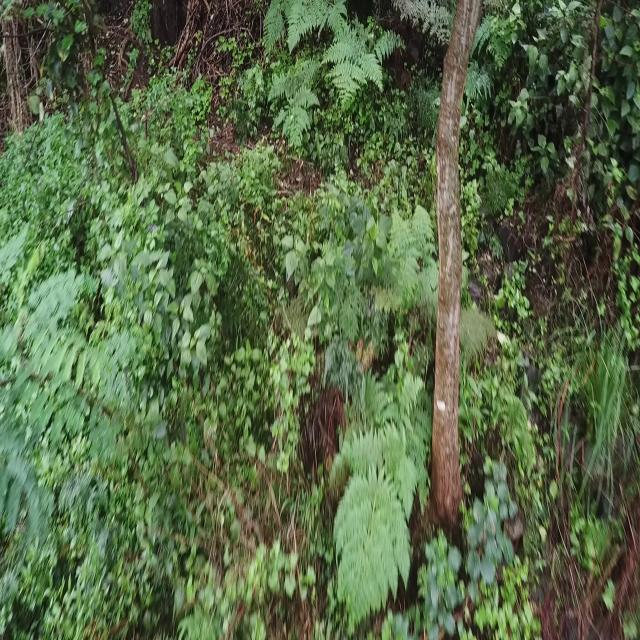Mysore-Thorn-Weed: (0, 187, 142, 551)
